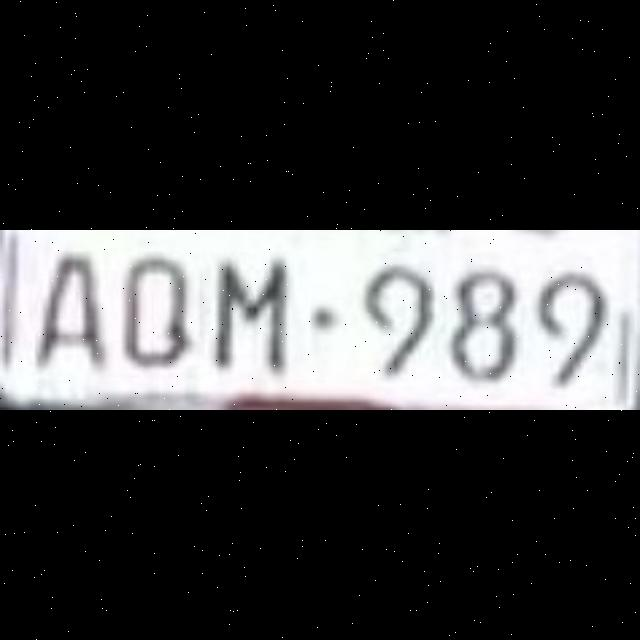8: (447, 246, 531, 394)
9: (363, 246, 447, 394), (529, 246, 613, 394)
A: (32, 246, 116, 394)
M: (204, 246, 288, 394)
Q: (115, 246, 199, 394)
